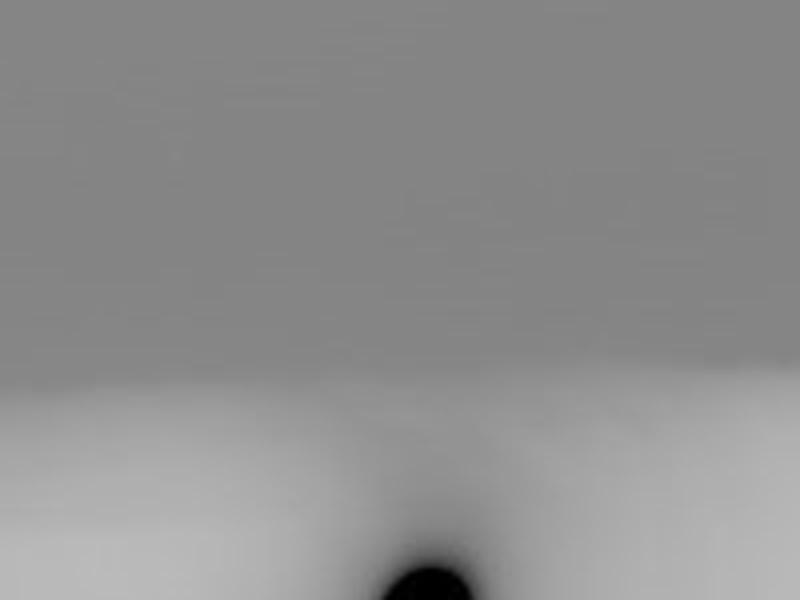defect: (380, 563, 468, 600)
